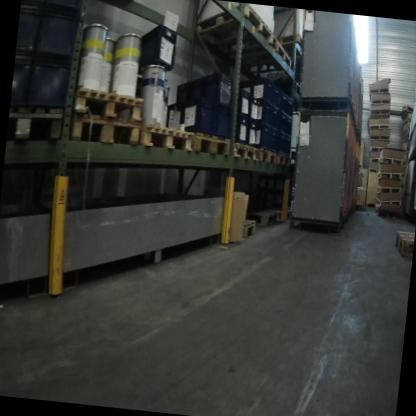pallet: (188, 0, 274, 67), (210, 33, 294, 78), (6, 93, 68, 151), (63, 110, 142, 151), (71, 87, 145, 124), (135, 122, 196, 159), (186, 124, 233, 162), (226, 142, 258, 169), (252, 203, 279, 233), (391, 226, 414, 261), (273, 30, 306, 53), (235, 214, 257, 243), (271, 197, 291, 224), (274, 157, 300, 175), (255, 150, 280, 167), (377, 153, 403, 168), (375, 197, 401, 208), (376, 169, 401, 180), (367, 85, 388, 98), (377, 185, 400, 196), (369, 97, 390, 109), (374, 205, 394, 217), (368, 132, 389, 143), (369, 105, 390, 116), (368, 121, 389, 130), (400, 103, 413, 113), (368, 156, 380, 165), (367, 164, 380, 172), (366, 201, 376, 211), (400, 129, 411, 138), (367, 145, 381, 152), (400, 184, 407, 196), (403, 118, 412, 127), (402, 147, 409, 157), (400, 163, 406, 172), (401, 171, 405, 180)
small_load_carrier: (171, 62, 241, 117), (26, 53, 79, 119), (35, 8, 83, 71), (129, 21, 183, 72), (14, 7, 46, 64), (180, 93, 218, 139), (10, 53, 35, 110), (161, 95, 185, 141), (247, 73, 275, 109), (217, 99, 238, 146), (230, 83, 252, 118), (248, 122, 271, 152), (44, 0, 87, 16), (233, 113, 250, 142), (268, 80, 283, 112), (263, 125, 280, 153), (256, 100, 272, 128), (247, 95, 261, 126), (267, 103, 280, 133), (277, 87, 290, 116), (22, 0, 50, 10), (273, 133, 287, 153), (286, 96, 297, 121), (245, 123, 257, 145), (283, 135, 295, 157), (276, 116, 289, 136), (284, 117, 296, 138)
